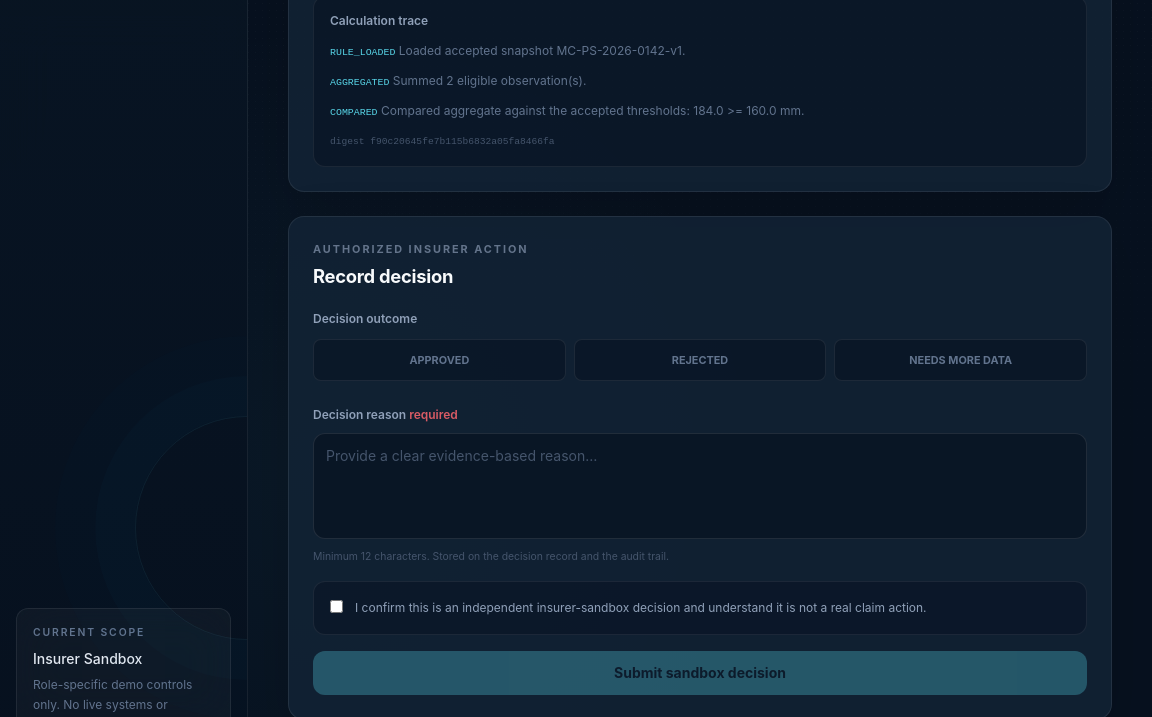
MonsoonCover frontend foundation › surfaces the server refusing a decision from the wrong role
(page scrolled)
Click the button "REJECTED" at point(700, 360), box [574, 339, 826, 381]
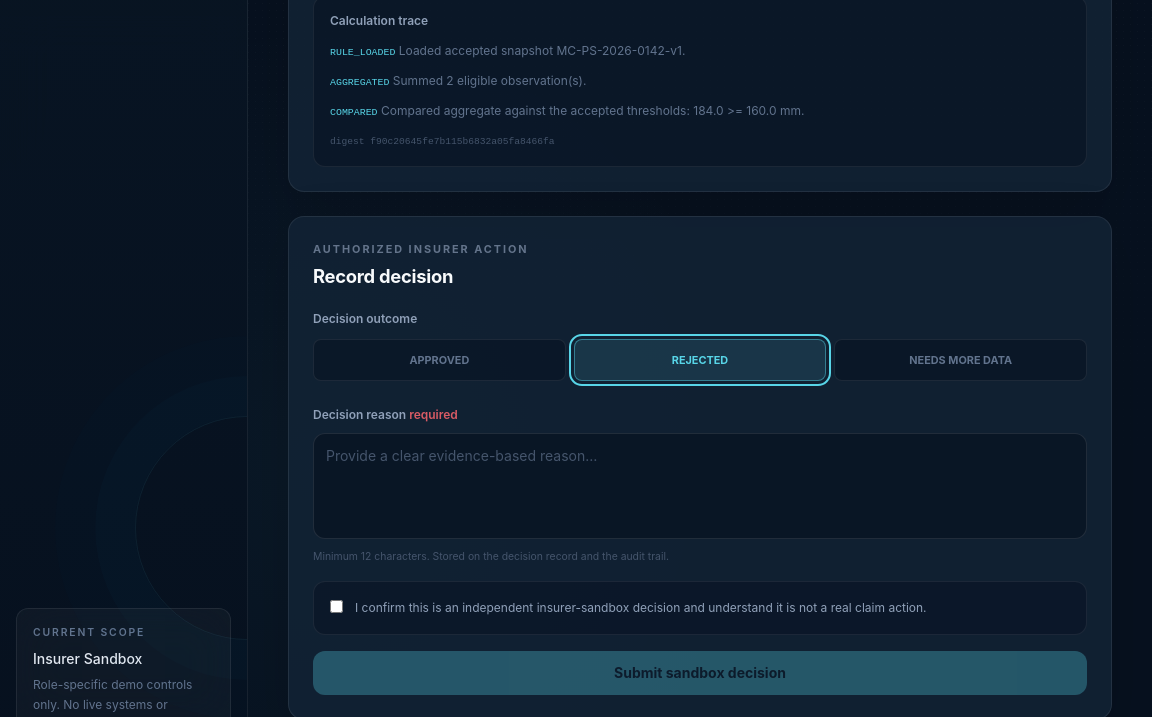
Type "Attempting a decision from a role that may not make one." into the text box labelled "Decision reason" at point(700, 486), box [313, 433, 1087, 539]
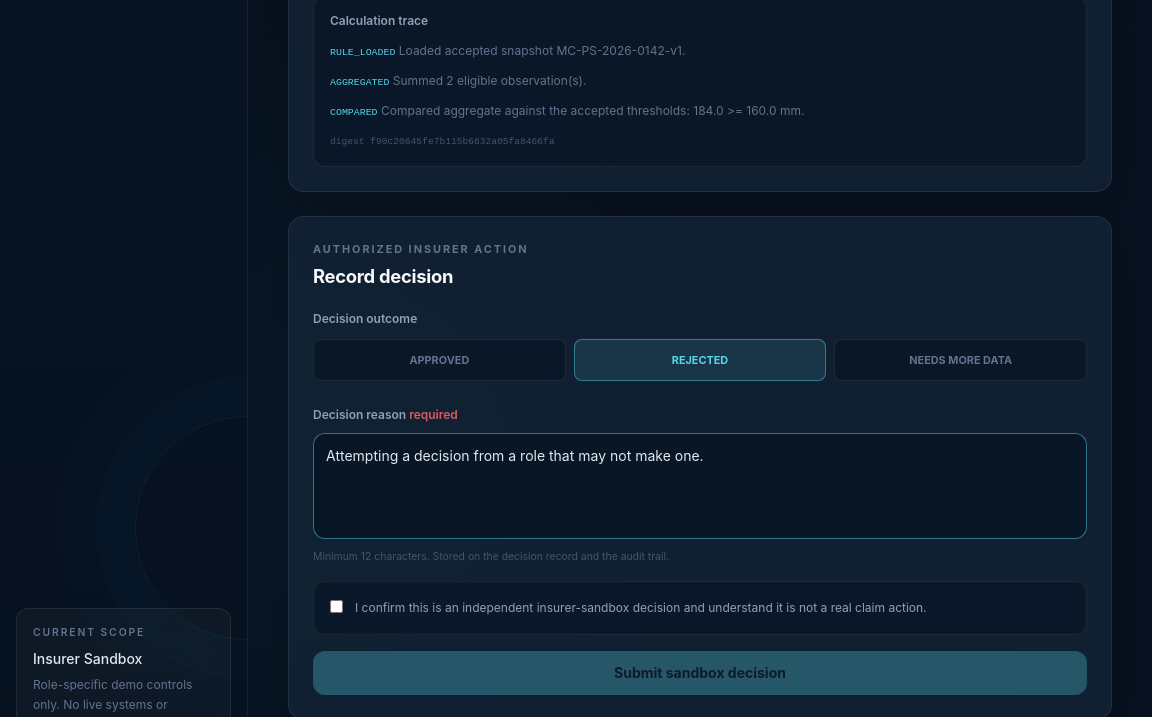
Click the checkbox at point(336, 606), box [330, 600, 343, 613]
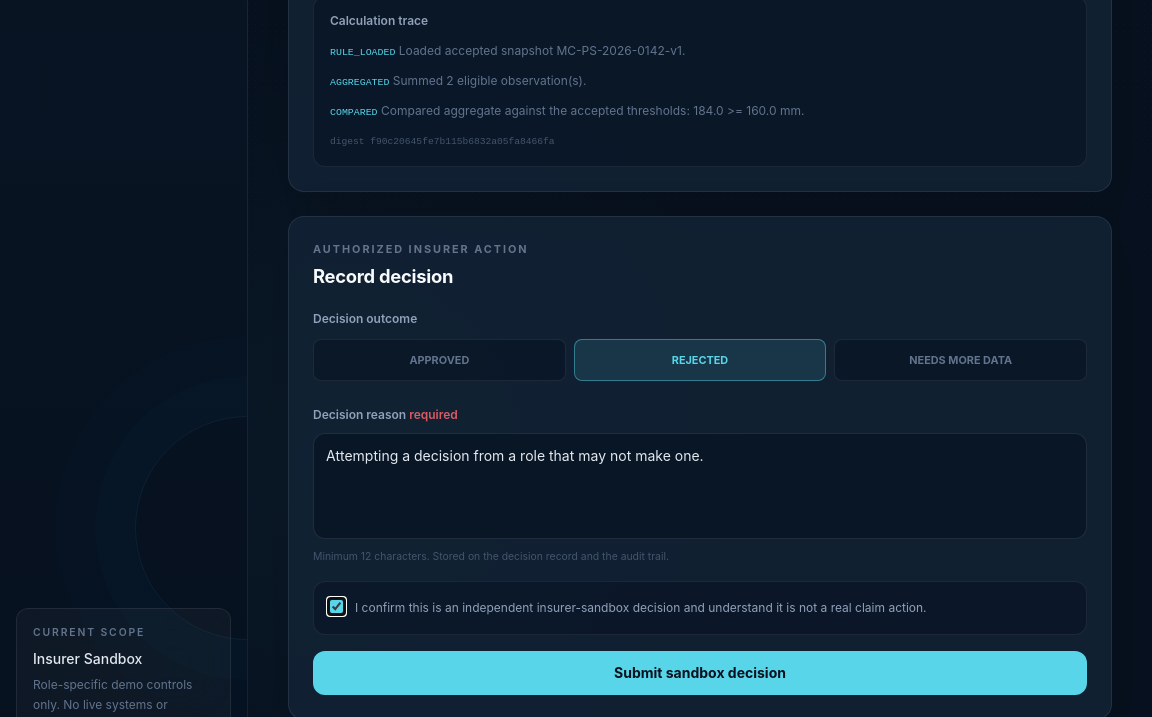
Click the button "Submit sandbox decision" at point(700, 673), box [313, 651, 1087, 695]
(page scrolled)
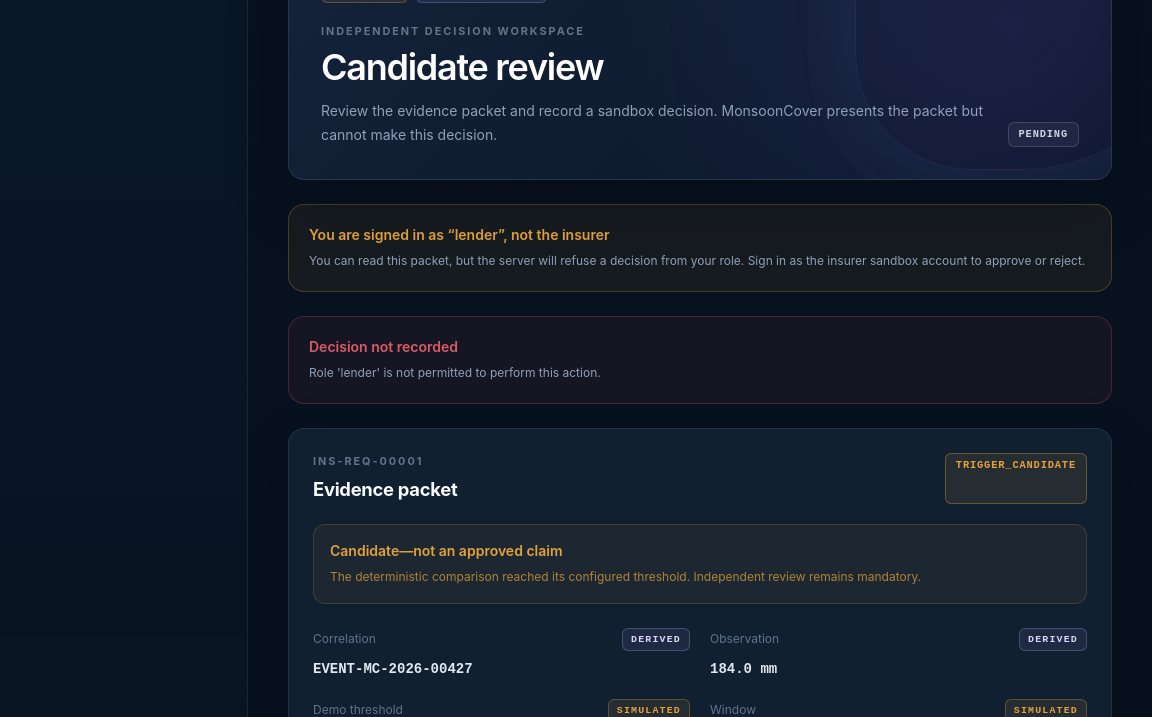
expect the message shows "is not permitted": met, box [309, 365, 601, 380]
